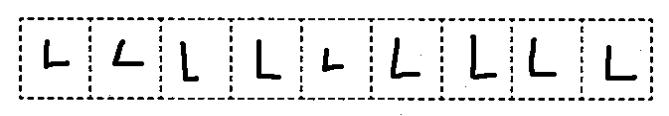L: (594, 40, 641, 91), (460, 29, 500, 84), (245, 36, 286, 86), (385, 34, 426, 84), (522, 33, 562, 84), (174, 35, 206, 85), (37, 33, 75, 75), (107, 36, 148, 72), (313, 42, 351, 79)
